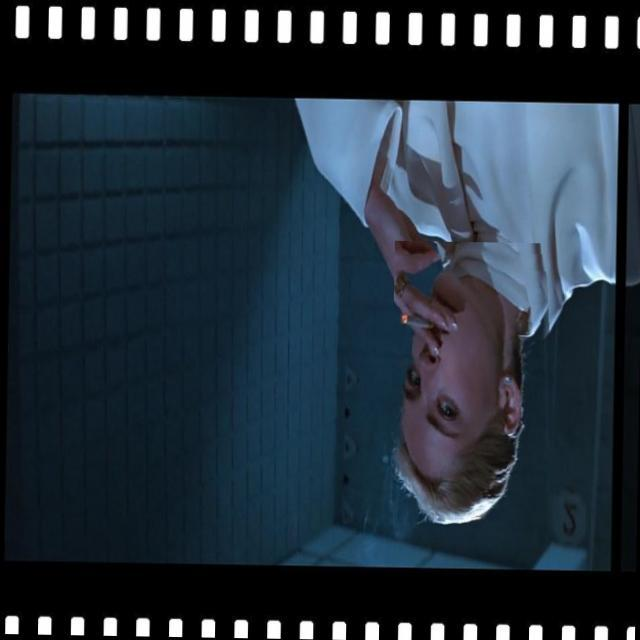cigarette: (402, 296, 458, 346)
